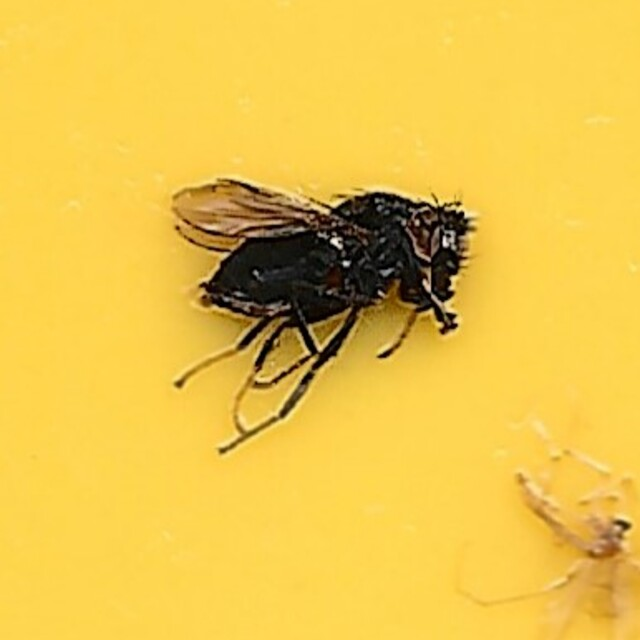Brachycera: (166, 180, 474, 460)
